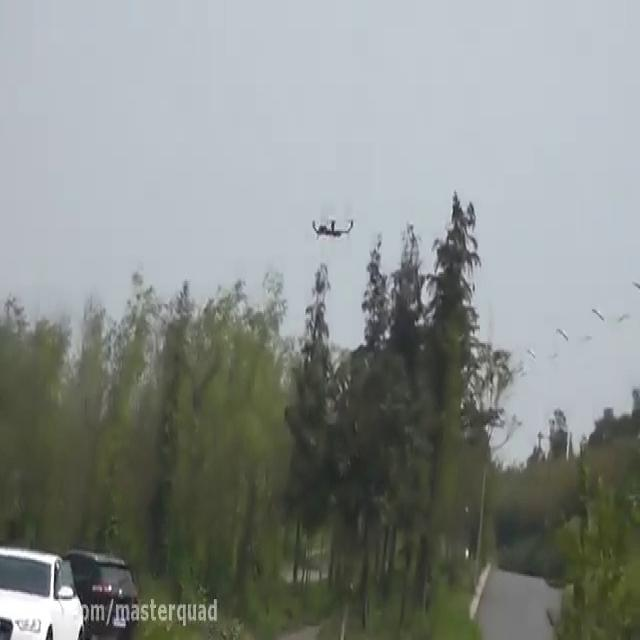drone: (308, 208, 357, 244)
